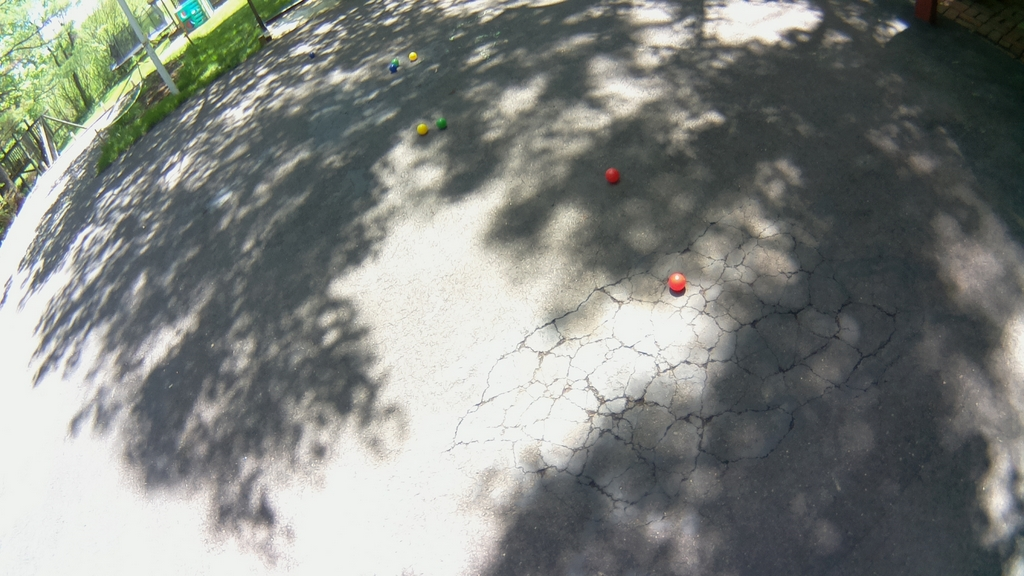ball: (416, 123, 428, 133)
